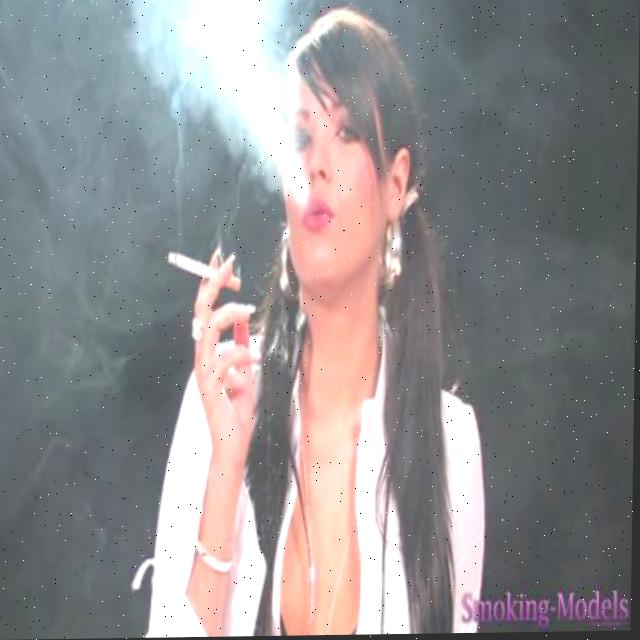cigarette: (165, 249, 241, 294)
